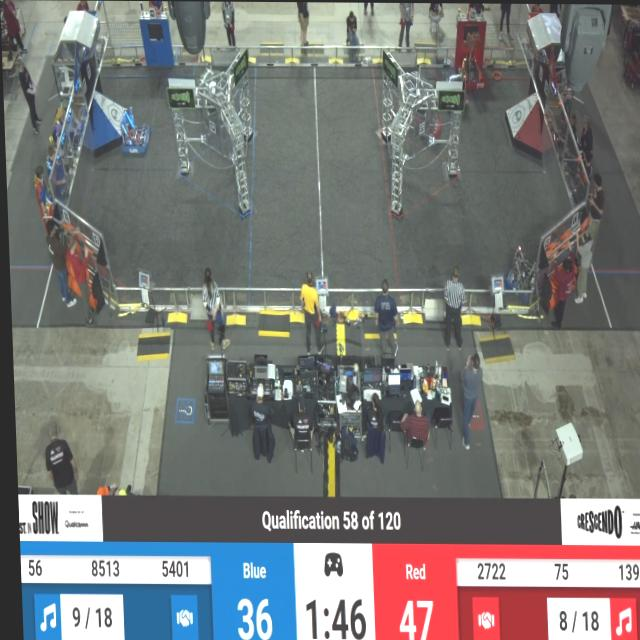Robot: (499, 238, 540, 307), (459, 22, 491, 96), (116, 103, 150, 158), (426, 90, 443, 147)
